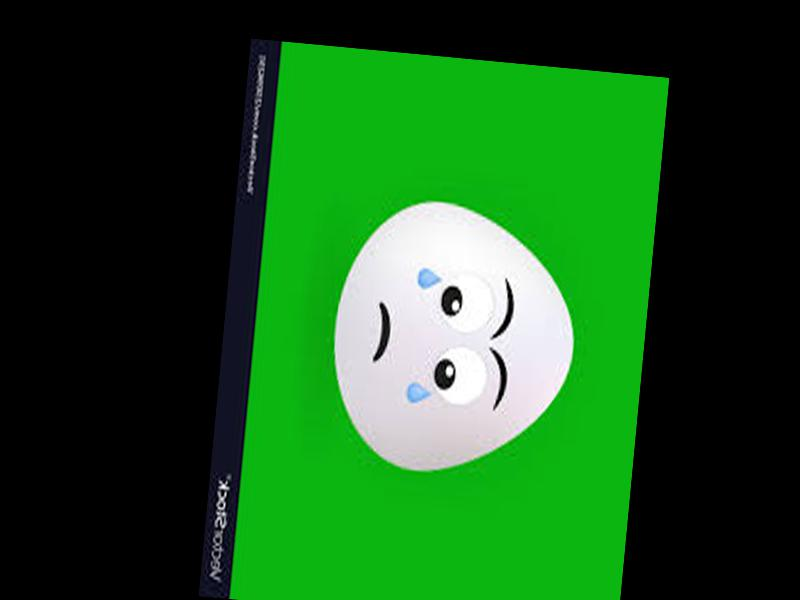Eggs: (322, 195, 583, 486)
